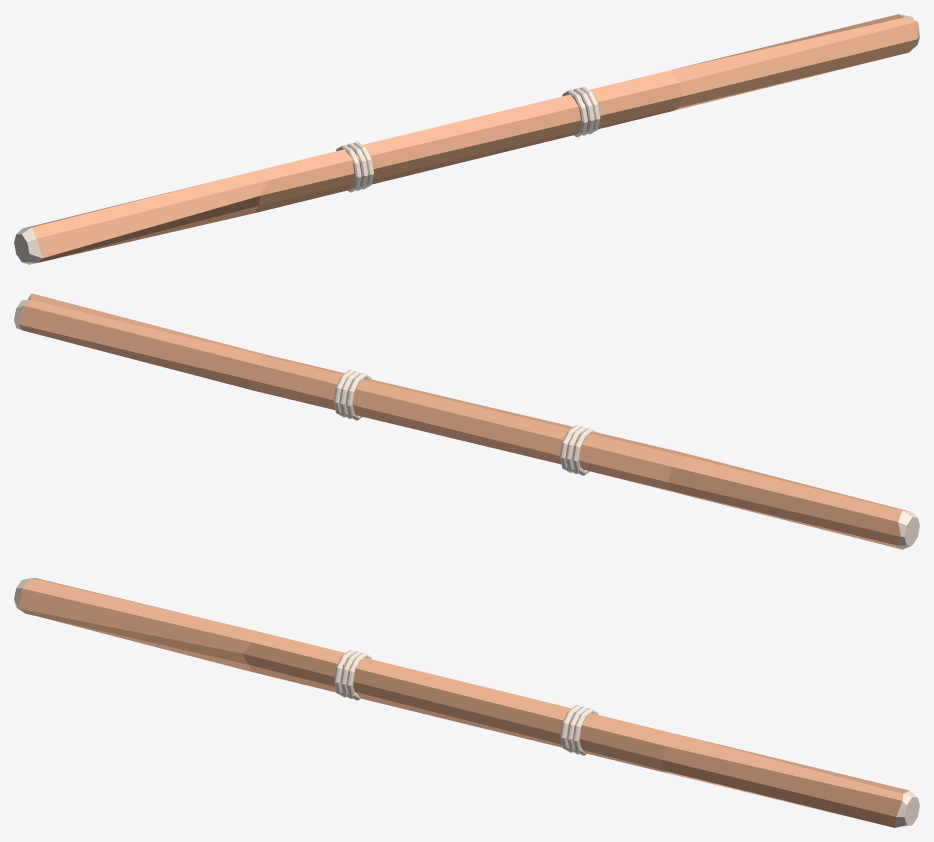
Rendered from LogModel.fbx.
The picture shows the model from 3 angles, top to bottom: view 1: azimuth 30°, elevation 25°; view 2: azimuth 150°, elevation 25°; view 3: azimuth 330°, elevation 25°; orthographic projection.
Parts seen in each view (by area): view 1: Log; view 2: Log; view 3: Log.
Part boxes in pixels (left/top/right/bottom): Log: left=14, top=14, right=919, bottom=264; Log: left=14, top=293, right=919, bottom=549; Log: left=14, top=578, right=919, bottom=827.
Bounding box in the file's own units: 260 × 11.8 × 12.41.
